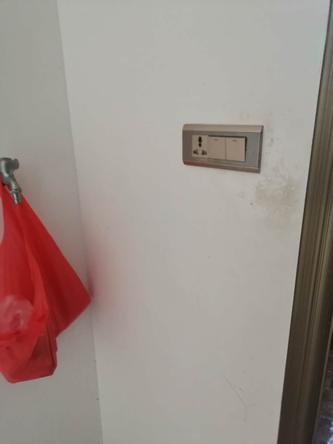switch: (225, 137, 246, 161), (208, 134, 225, 160)
